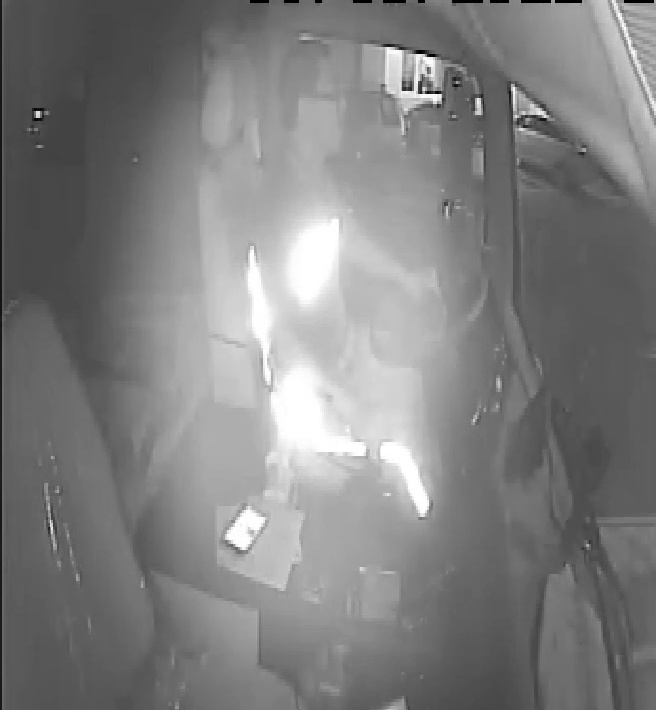cellphone: (223, 502, 267, 556)
